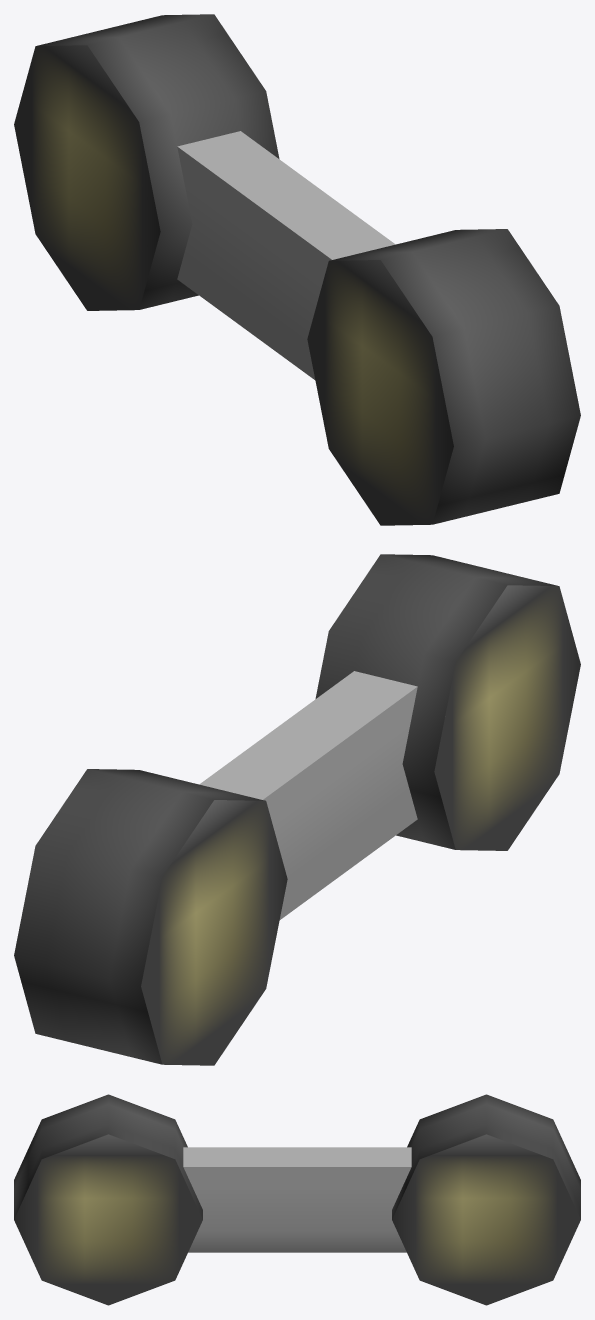
File: assembly_machine_arm_upper_1.obj
The picture shows the model from 3 angles, top to bottom: view 1: azimuth 30°, elevation 25°; view 2: azimuth 150°, elevation 25°; view 3: azimuth 270°, elevation 25°; orthographic projection. The views are drawn at different scales.
Visible parts, largest first — view 1: ArmUpper1; view 2: ArmUpper1; view 3: ArmUpper1.
Part boxes in pixels (<box>): ArmUpper1: <box>14,14,580,525</box>; ArmUpper1: <box>14,554,580,1065</box>; ArmUpper1: <box>14,1094,580,1305</box>.
Bounding box in the file's own units: 0.125 × 0.25 × 0.75.
